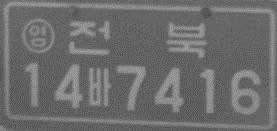1: (193, 67, 224, 115), (18, 61, 49, 108)
4: (153, 66, 184, 113), (53, 63, 82, 108)
6: (230, 69, 260, 115)
7: (115, 63, 147, 111)
바: (87, 66, 112, 108)
영: (21, 17, 54, 55)
전북_D: (67, 19, 208, 58)
